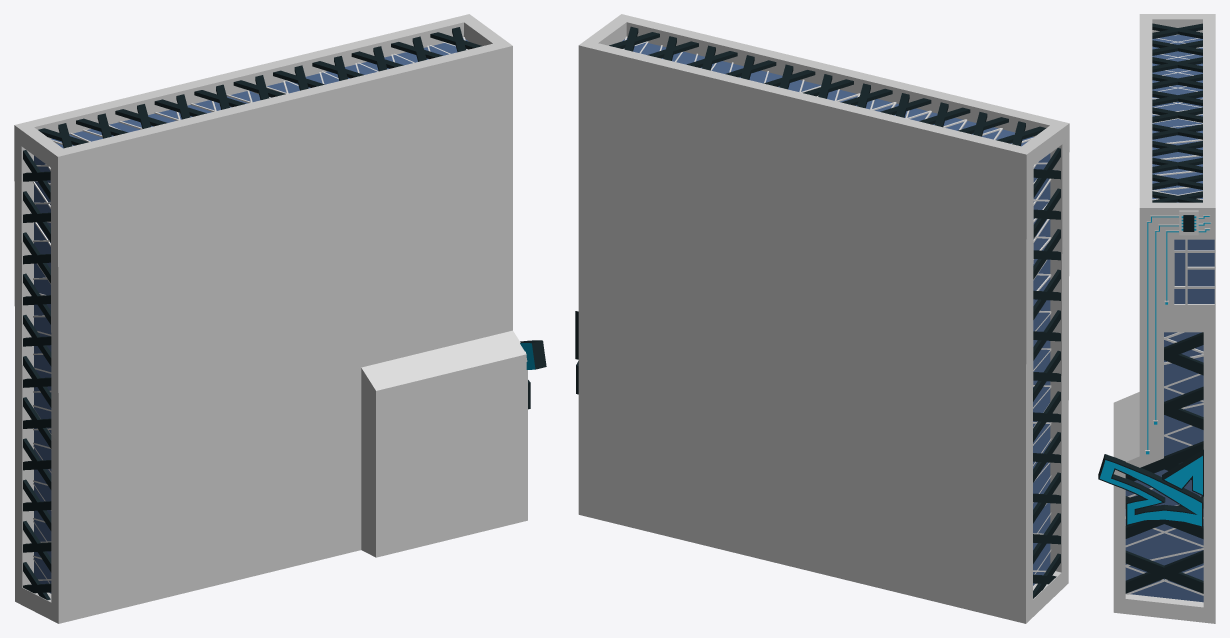
3 renders of one model, left to right at view 1: azimuth 30°, elevation 25°; view 2: azimuth 150°, elevation 25°; view 3: azimuth 270°, elevation 25°, orthographic. The views are drawn at different scales.
Visible parts, largest first — view 1: shadeWhite, shadeGray, shadeBlue; view 2: shadeWhite, shadeGray, shadeBlue; view 3: shadeWhite, shadeGray, shadeBlue, Cube.014.
Part boxes in pixels (x1,y1,x2,y2): shadeWhite: [14, 14, 527, 623]; shadeGray: [23, 27, 546, 600]; shadeBlue: [34, 38, 468, 593]; shadeWhite: [578, 14, 1069, 623]; shadeGray: [575, 26, 1060, 598]; shadeBlue: [622, 38, 1050, 585]; shadeWhite: [1113, 14, 1215, 623]; shadeGray: [1098, 23, 1203, 593]; shadeBlue: [1125, 35, 1214, 602]; Cube.014: [1100, 216, 1210, 526].
Bounding box in the file's own units: 6.13 × 6.01 × 1.53.
